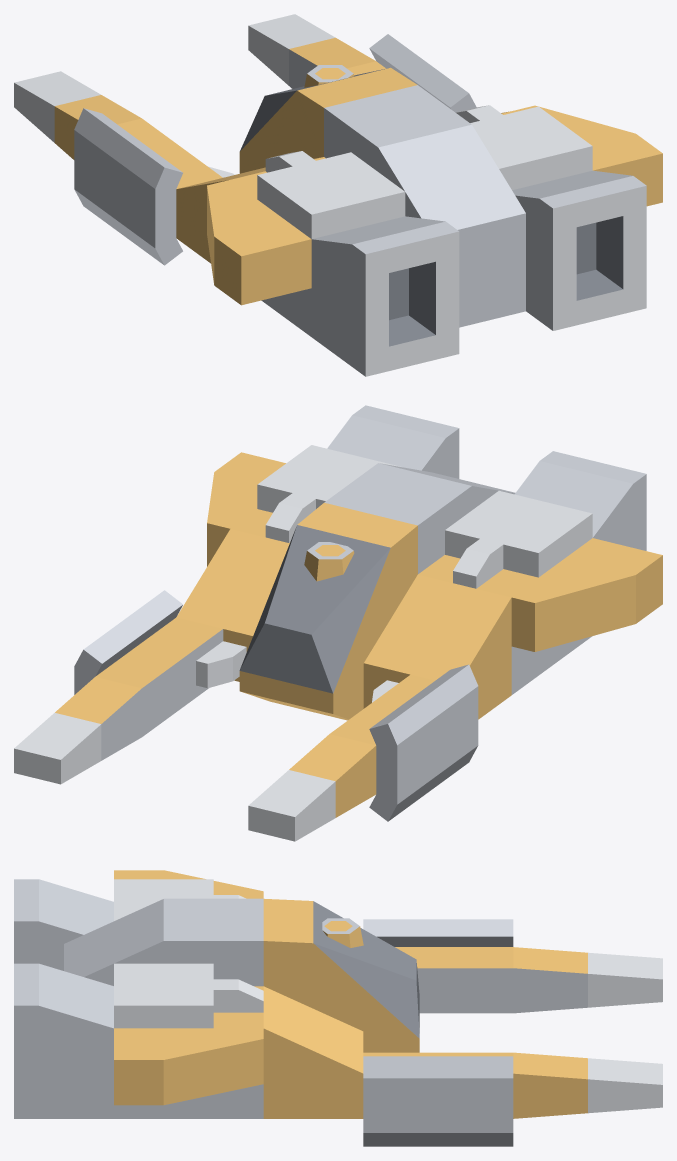
Rendered from unit_collector.glb.
3 renders of one model, top to bottom at view 1: azimuth 30°, elevation 25°; view 2: azimuth 150°, elevation 25°; view 3: azimuth 270°, elevation 25°, orthographic. The views are drawn at different scales.
Parts seen in each view (by area): view 1: craft_miner, machine_barrel; view 2: craft_miner, machine_barrel; view 3: craft_miner, machine_barrel.
Part boxes in pixels (x1=…): craft_miner: x1=14, y1=14, x2=662, y2=376; machine_barrel: x1=304, y1=65, x2=354, y2=87; craft_miner: x1=14, y1=405, x2=662, y2=841; machine_barrel: x1=304, y1=542, x2=354, y2=581; craft_miner: x1=14, y1=870, x2=662, y2=1146; machine_barrel: x1=322, y1=918, x2=363, y2=947.
Size of the model in its own units: 1.32 by 0.5115 by 1.9.
